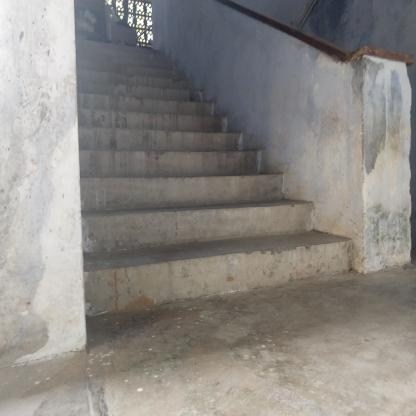stairs: (78, 113, 272, 318)
